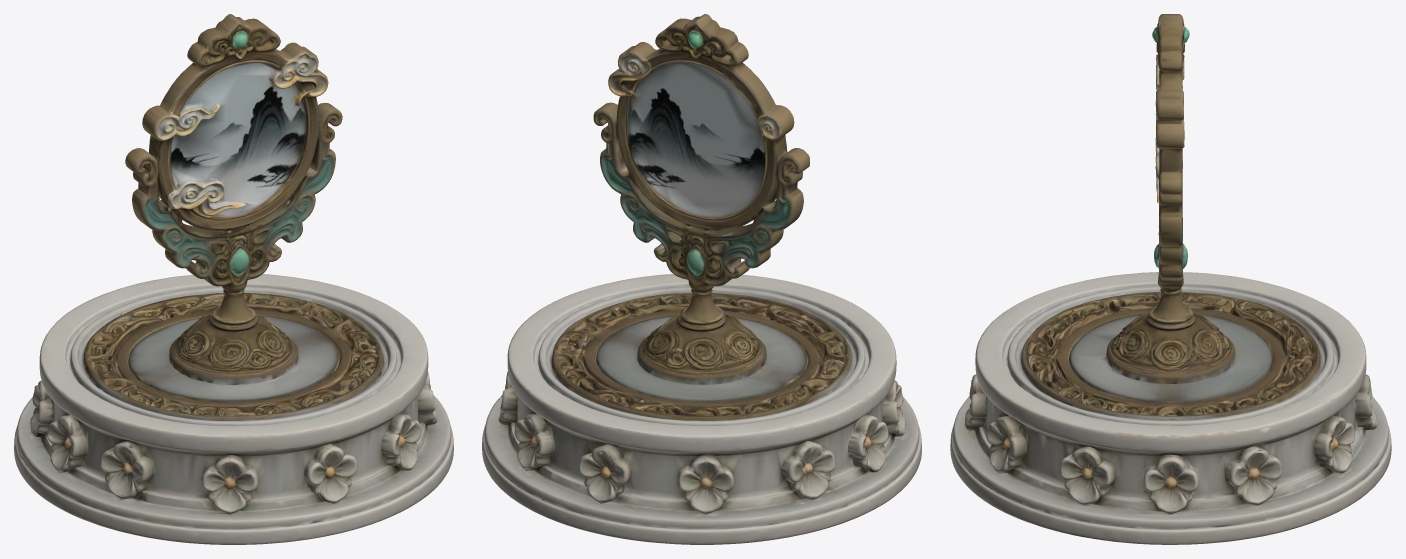
Rendered from mirror_terrace.glb.
The picture shows the model from 3 angles, left to right: view 1: azimuth 30°, elevation 25°; view 2: azimuth 150°, elevation 25°; view 3: azimuth 270°, elevation 25°; orthographic projection.
Parts seen in each view (by area): view 1: node_0; view 2: node_0; view 3: node_0.
Boxes of the visible parts, x1=… form: node_0: x1=14, y1=14, x2=453, y2=544; node_0: x1=482, y1=14, x2=921, y2=544; node_0: x1=950, y1=14, x2=1391, y2=544.
Bounding box in the file's own units: 0.813 × 0.888 × 0.8124.
1 material, 1 textured.
